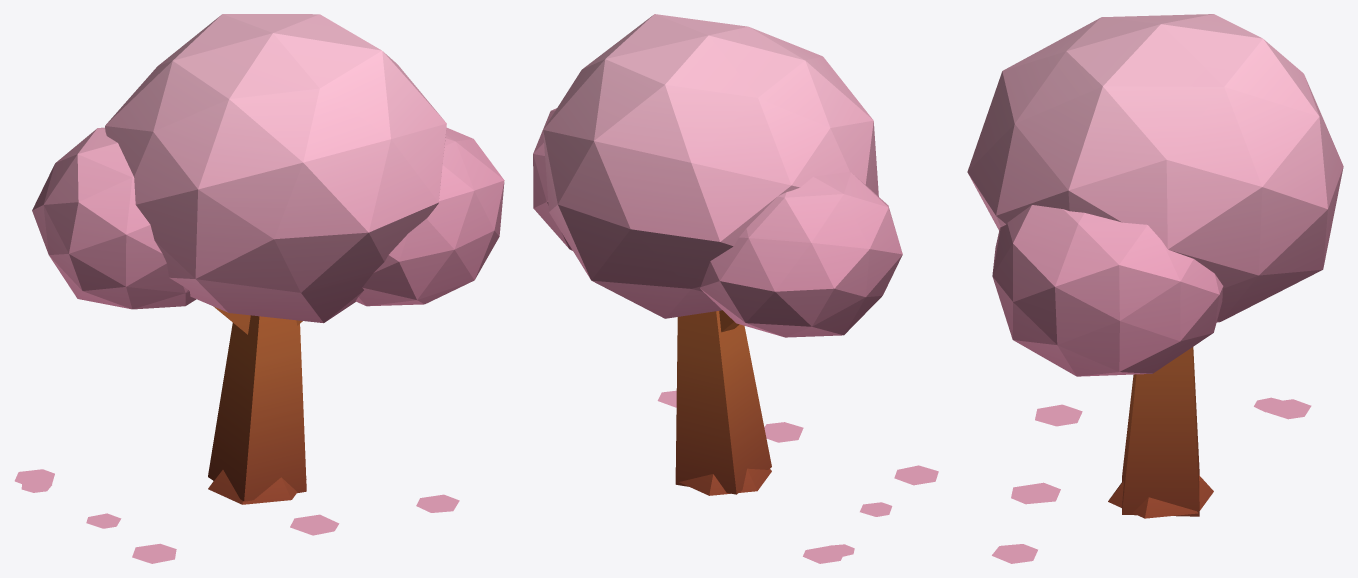
Rendered from cherry_tree_a.gltf.
3 renders of one model, left to right at view 1: azimuth 30°, elevation 25°; view 2: azimuth 150°, elevation 25°; view 3: azimuth 270°, elevation 25°, orthographic. The views are drawn at different scales.
Visible parts, largest first — view 1: cherry_tree_a; view 2: cherry_tree_a; view 3: cherry_tree_a.
Part boxes in pixels (box(x1,y1,x2,y2)): cherry_tree_a: box(14, 14, 504, 563); cherry_tree_a: box(533, 14, 938, 563); cherry_tree_a: box(967, 14, 1343, 563).
Bounding box in the file's own units: 3.73 × 4.11 × 2.9.
1 material, 1 textured.
